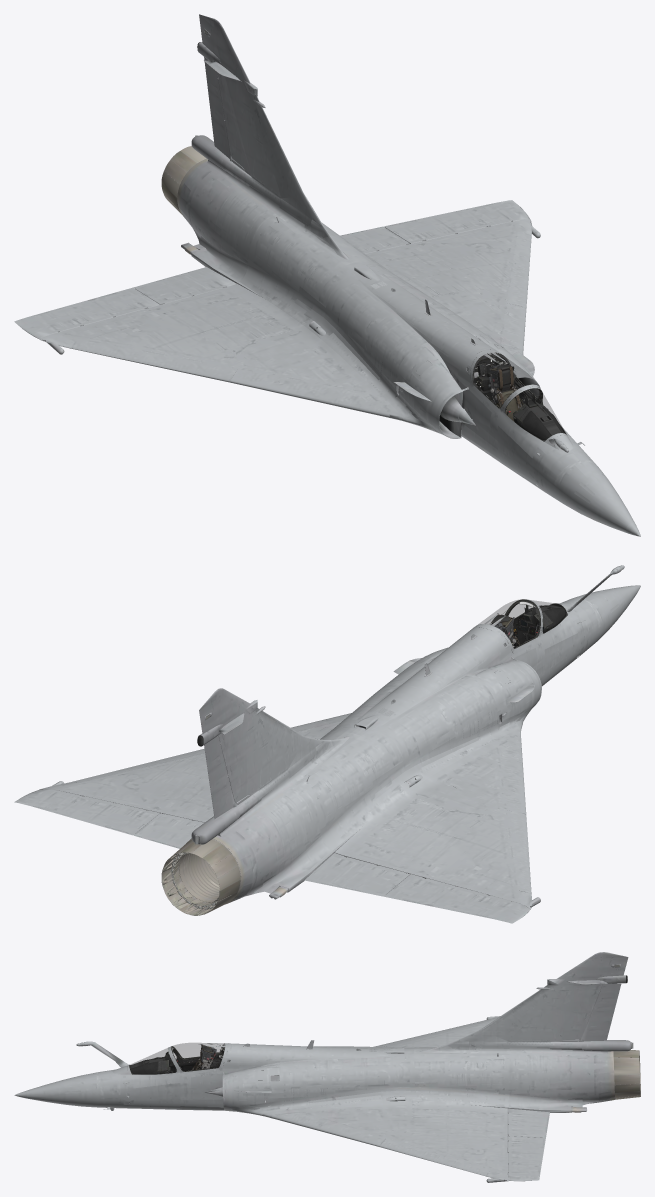
Rendered from chasseur_5f_realiste.m.glb.
3 views of the same model, one above another, from view 1: azimuth 30°, elevation 25°; view 2: azimuth 150°, elevation 25°; view 3: azimuth 270°, elevation 25° (orthographic). The views are drawn at different scales.
Parts seen in each view (by area): view 1: chasseur; view 2: chasseur; view 3: chasseur.
Part boxes in pixels (x1,y1,x2,y2): chasseur: (14,14,640,536); chasseur: (14,565,640,923); chasseur: (14,952,640,1182).
Bounding box in the file's own units: 9.12 × 4.2 × 14.3.
7 materials, 3 textured.
